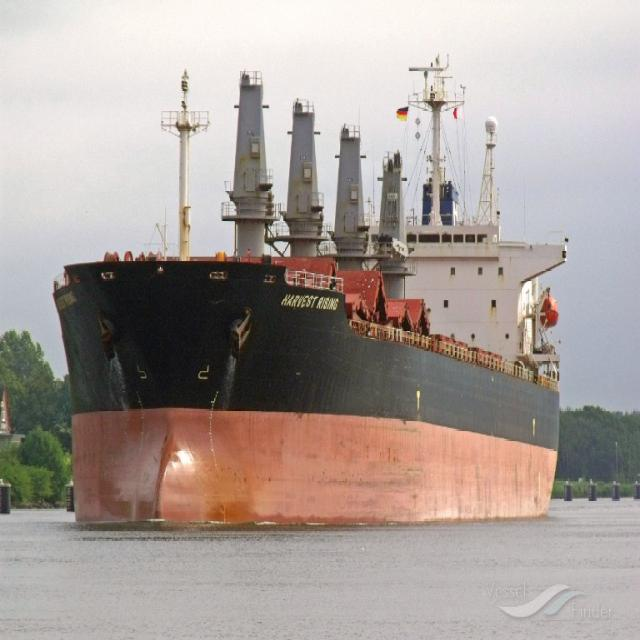OCR: (281, 290, 342, 322)
